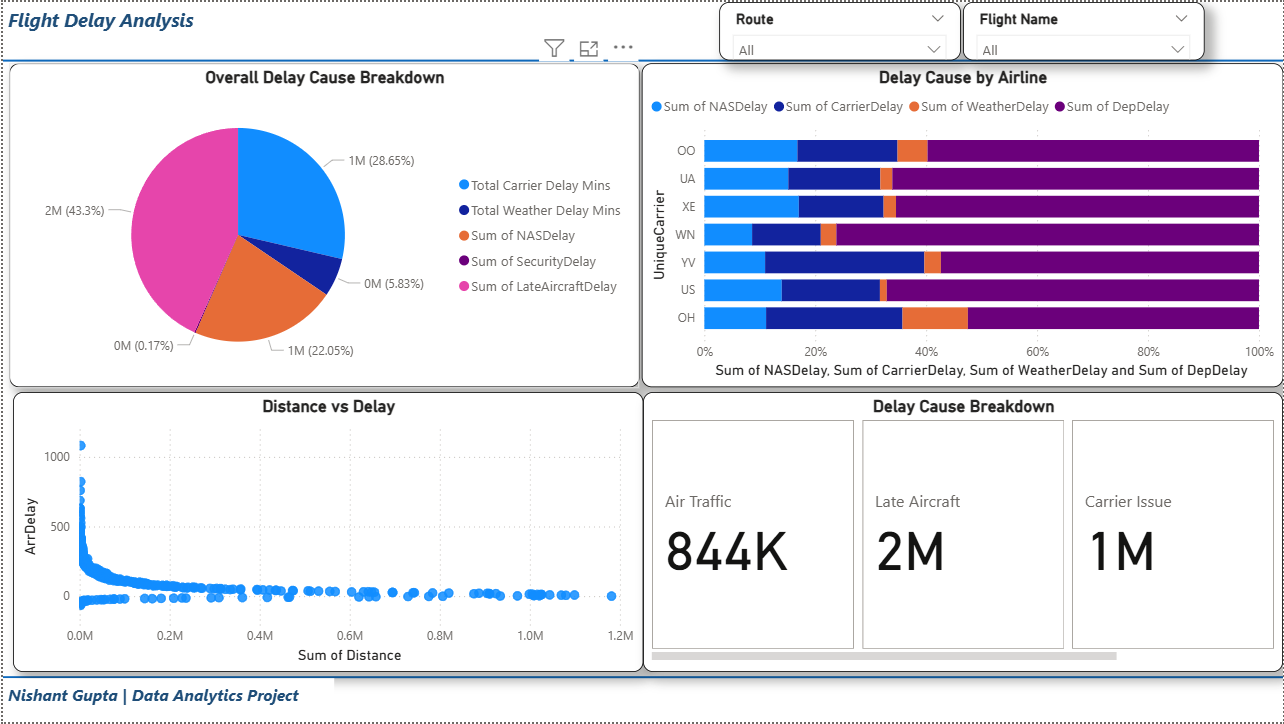

What the dashboard file says about the page in this screenshot:
{"tool":"powerbi","page":{"name":"Delay Cause Analysis","canvas":[1280,720],"ordinal":3},"visuals":[{"type":"shape","box":[0,52.6,1280,12.2],"z":0},{"type":"shape","box":[0,668.6,1280,12.9],"z":1000},{"type":"pieChart","title":"Overall Delay Cause Breakdown","fields":{"Y":["KPI.Total Carrier Delay Mins","KPI.Total Weather Delay Mins","Sum(airline_clean.NASDelay)","Sum(airline_clean.SecurityDelay)","Sum(airline_clean.LateAircraftDelay)"]},"box":[5.7,61.4,630,324.3],"z":2000},{"type":"hundredPercentStackedBarChart","title":" Delay Cause by Airline","fields":{"Y":["Sum(airline_clean.NASDelay)","Sum(airline_clean.CarrierDelay)","Sum(airline_clean.WeatherDelay)","Sum(airline_clean.DepDelay)"],"Category":["airline_clean.UniqueCarrier"]},"box":[638.6,61.4,641.4,324.3],"z":3000},{"type":"scatterChart","title":"Distance vs Delay","fields":{"X":["Sum(airline_clean.Distance)"],"Y":["airline_clean.ArrDelay"]},"box":[10,390,630,280],"z":4000},{"type":"cardVisual","title":"Delay Cause Breakdown","fields":{"Data":["KPI.NAS Delay","KPI.Late Aircraft","KPI.Total Carrier Delay Mins","KPI.Total Weather Delay Mins"]},"box":[640,390,640,280],"z":5000},{"type":"textbox","box":[0,676.2,331.2,43.8],"z":5001},{"type":"textbox","box":[0,0,300,52.5],"z":5002},{"type":"slicer","fields":{"Values":["airline_clean.Route"]},"box":[716.2,0,241.2,58.8],"z":5003},{"type":"slicer","fields":{"Values":["airline_clean.UniqueCarrier"]},"box":[960,0,241.2,58.8],"z":5004}]}

Visuals, with their boxes in screenshot pixels (x1, y1, x2, y2), scaled from the page's 1280x720 canvas onto the 1284x724 screenshot:
shape: (0, 53, 1283, 65)
shape: (0, 672, 1283, 685)
"Overall Delay Cause Breakdown" pieChart: (6, 62, 638, 388)
" Delay Cause by Airline" hundredPercentStackedBarChart: (641, 62, 1283, 388)
"Distance vs Delay" scatterChart: (10, 392, 642, 674)
"Delay Cause Breakdown" cardVisual: (642, 392, 1283, 674)
textbox: (0, 680, 332, 723)
textbox: (0, 0, 301, 53)
slicer - airline_clean.Route: (718, 0, 960, 59)
slicer - airline_clean.UniqueCarrier: (963, 0, 1205, 59)
